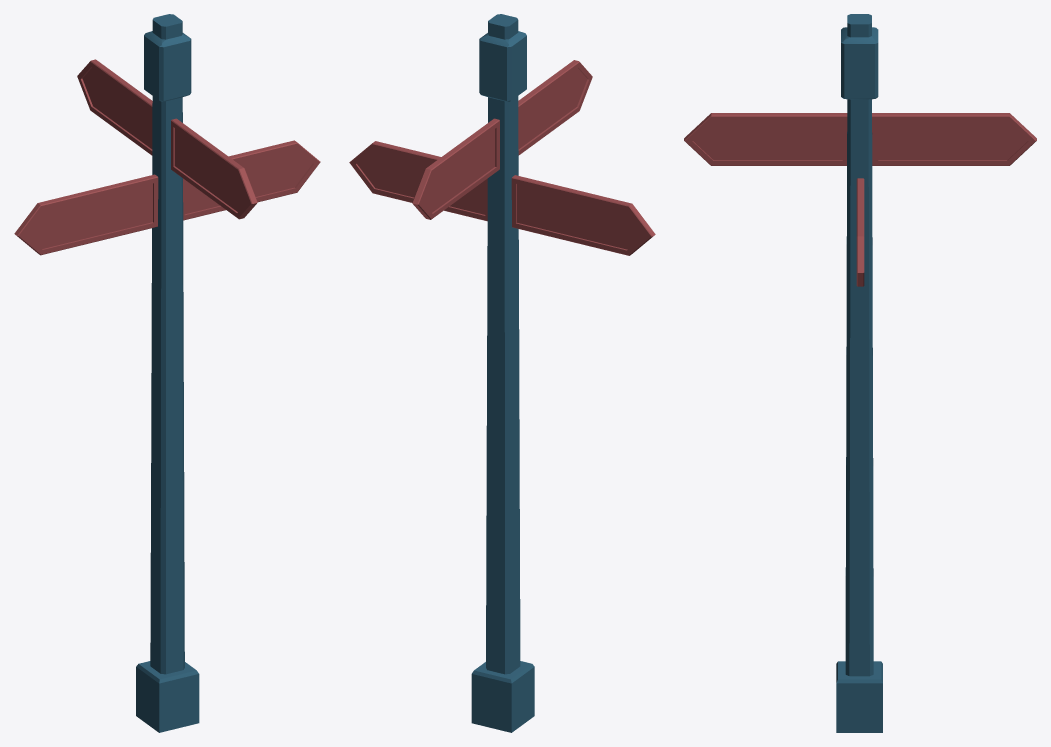
Rendered from streetsign_a003.glb.
3 renders of one model, left to right at view 1: azimuth 30°, elevation 25°; view 2: azimuth 150°, elevation 25°; view 3: azimuth 270°, elevation 25°, orthographic.
Visible parts, largest first — view 1: streetsign_a003; view 2: streetsign_a003; view 3: streetsign_a003.
Boxes of the visible parts, left/top/right/bottom form: streetsign_a003: left=14, top=14, right=320, bottom=732; streetsign_a003: left=349, top=14, right=655, bottom=732; streetsign_a003: left=684, top=14, right=1036, bottom=732.
Size of the model in its own units: 0.8721 by 1.92 by 0.8721.
Materials: 1 (1 with a texture image).
